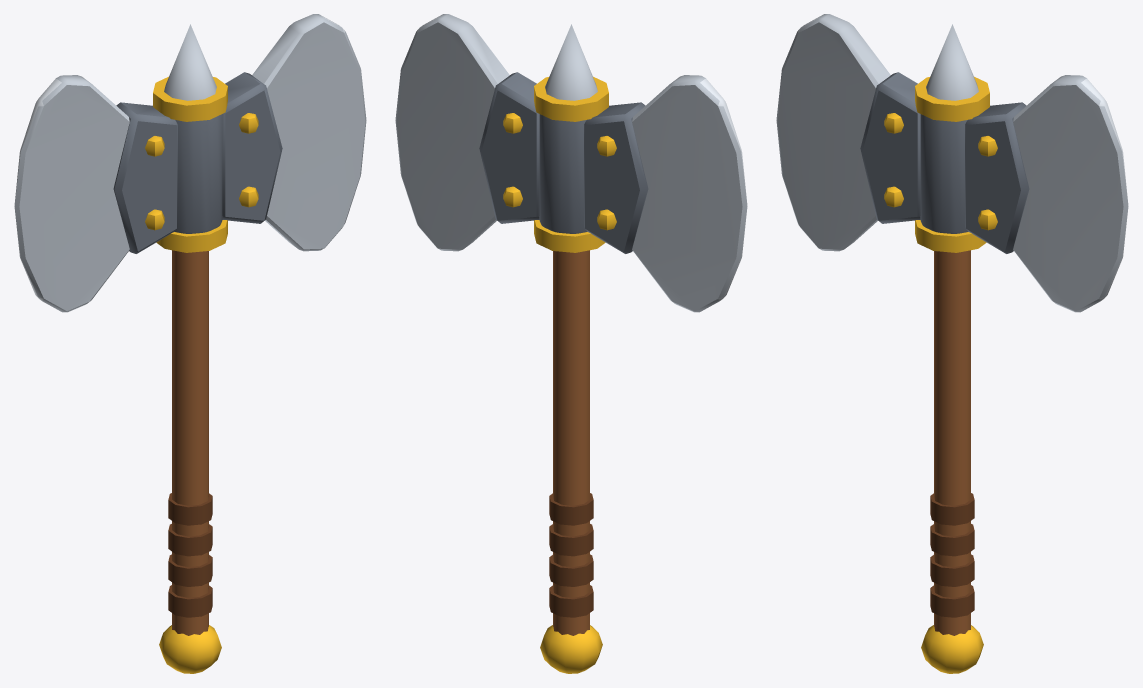
Rendered from Prop_Axe.fbx.
3 renders of one model, left to right at view 1: azimuth 30°, elevation 25°; view 2: azimuth 150°, elevation 25°; view 3: azimuth 330°, elevation 25°, orthographic.
Parts seen in each view (by area): view 1: Prop_Axe; view 2: Prop_Axe; view 3: Prop_Axe.
Part boxes in pixels (bbox=[...]): Prop_Axe: bbox=[14, 14, 366, 673]; Prop_Axe: bbox=[395, 14, 747, 673]; Prop_Axe: bbox=[776, 14, 1128, 673].
Bounding box in the file's own units: 0.9 × 1.58 × 0.17.
Materials: 1 (1 with a texture image).
